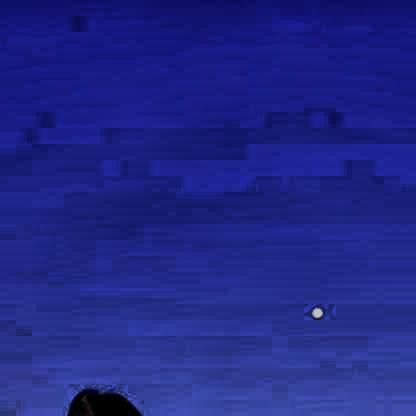golfball: (306, 301, 321, 316)
